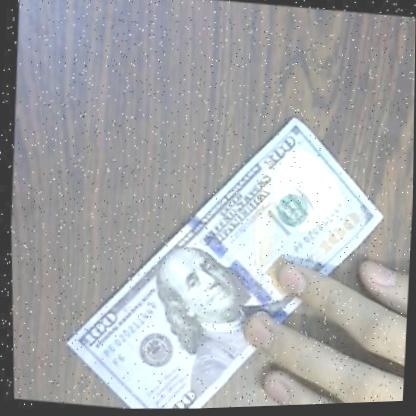one_hundred-front: (37, 83, 405, 415)
